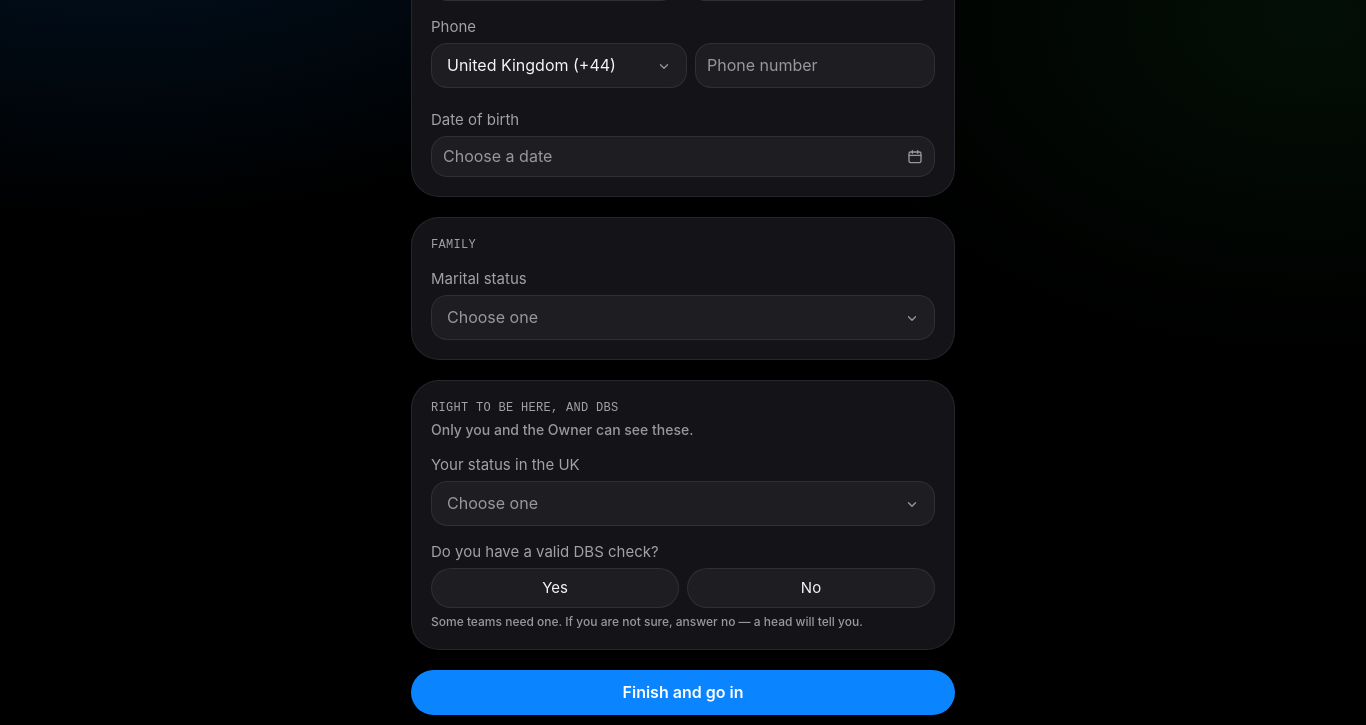
Test: joining › asks about an expiry only of somebody whose status runs out
The width and height of the screenshot is (1366, 725).
(page scrolled)
What coordinates should you click on to do the following:
click the dropdown named "Your status in the UK"
I would click on:
 (492, 503)
Its box is [431, 481, 935, 526].
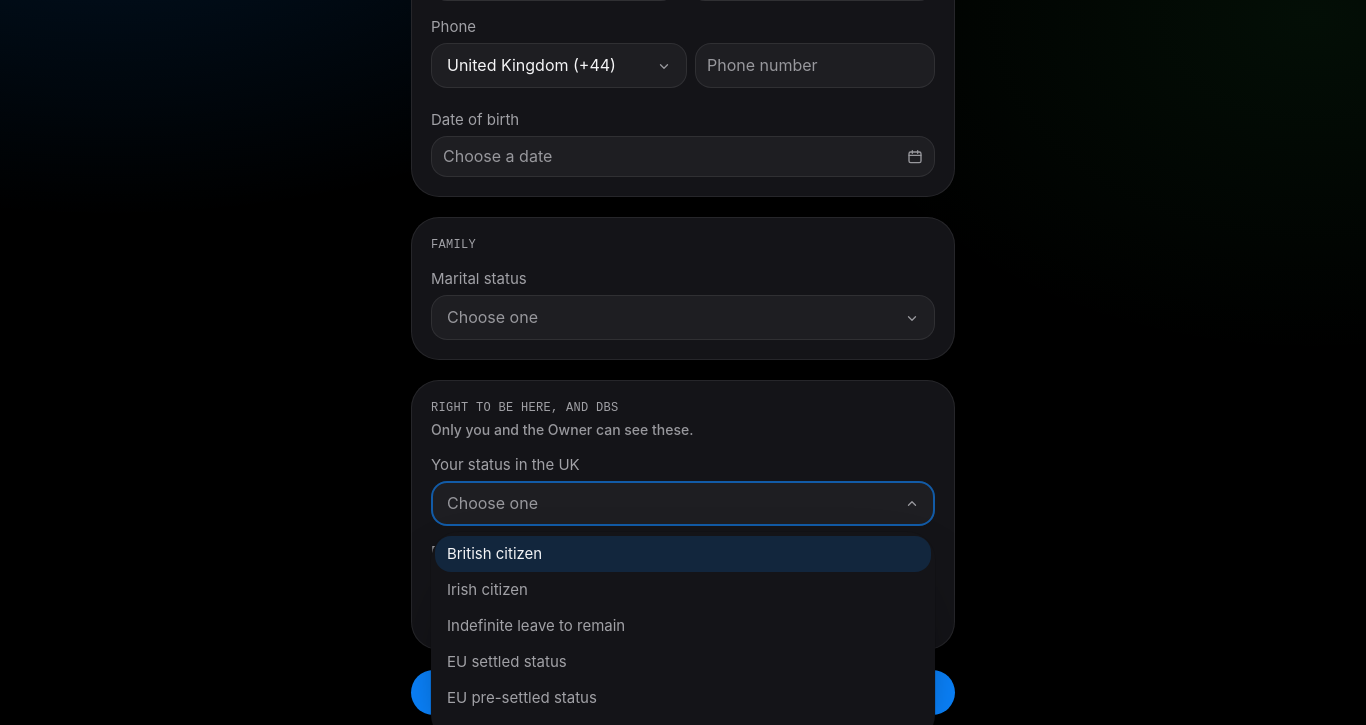
What coordinates should you click on to do the following:
click the option "British citizen"
I would click on:
 (495, 554)
Its box is [435, 536, 931, 572].
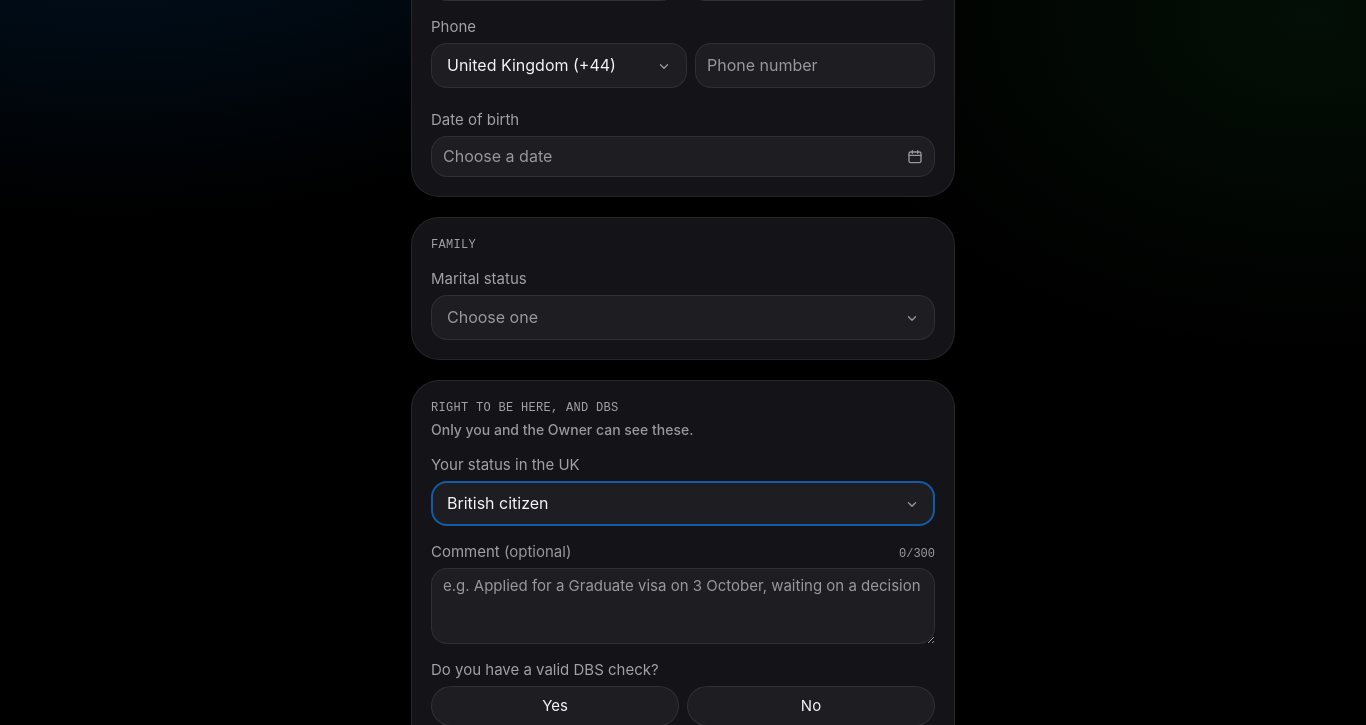
Expected: the element "expiry date" is not shown
What coordinates should you click on to do the following:
click the dropdown named "Your status in the UK"
I would click on:
 (498, 503)
Its box is [431, 481, 935, 526].
(page scrolled)
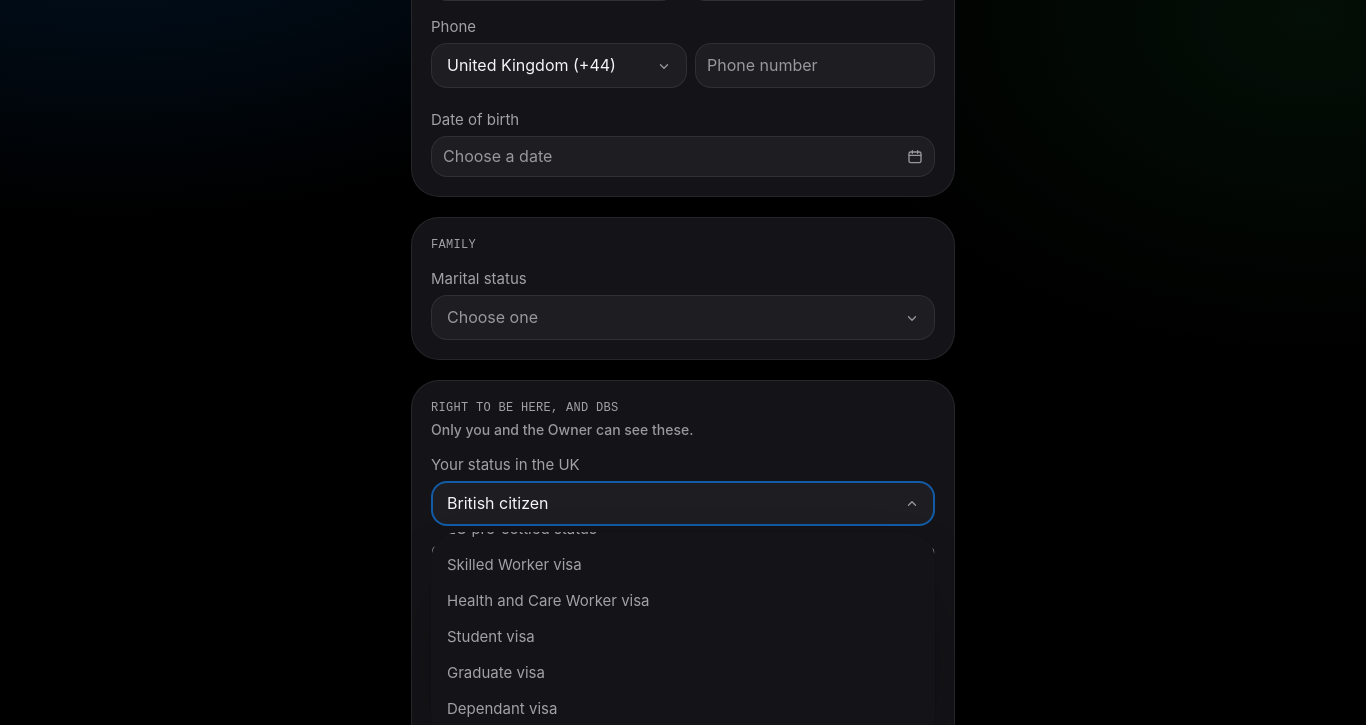
What coordinates should you click on to do the following:
click the option "Student visa"
I would click on:
 (491, 636)
Its box is [447, 627, 535, 646].
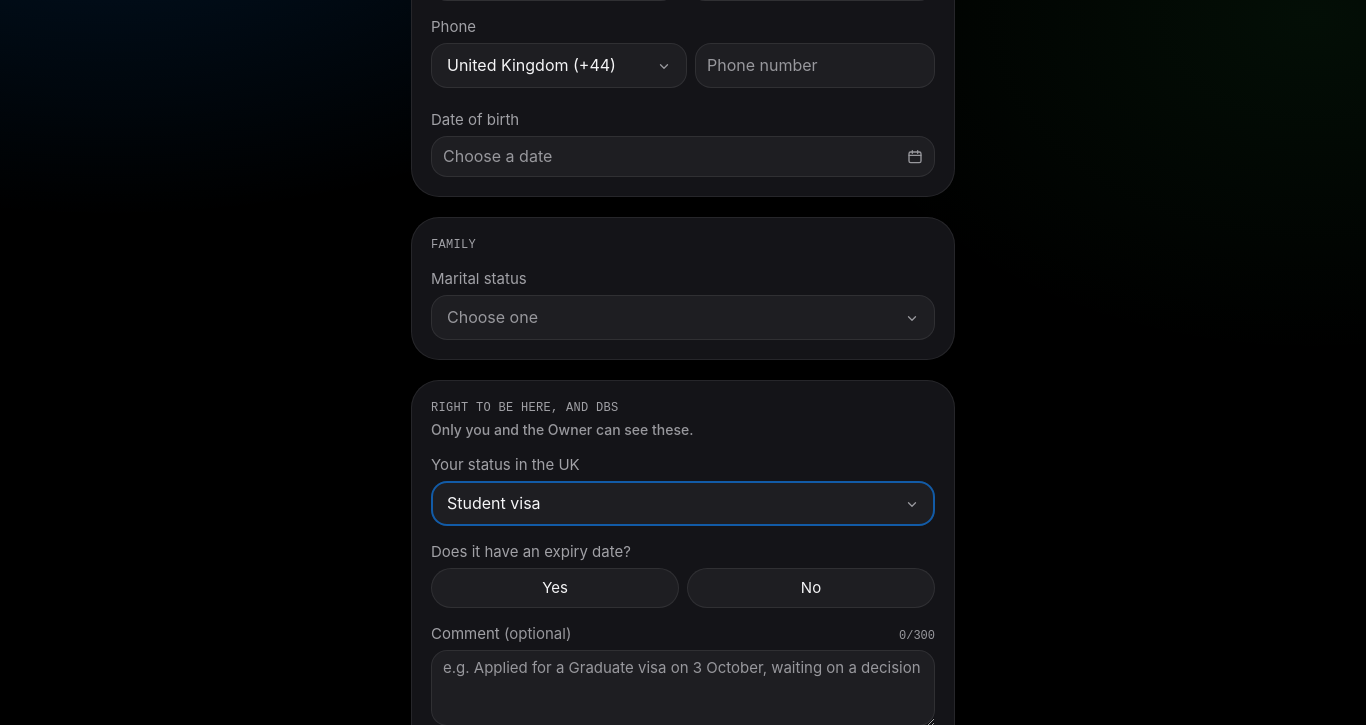
Expected: the element named "expiry date" is shown, [431, 568, 935, 608]
